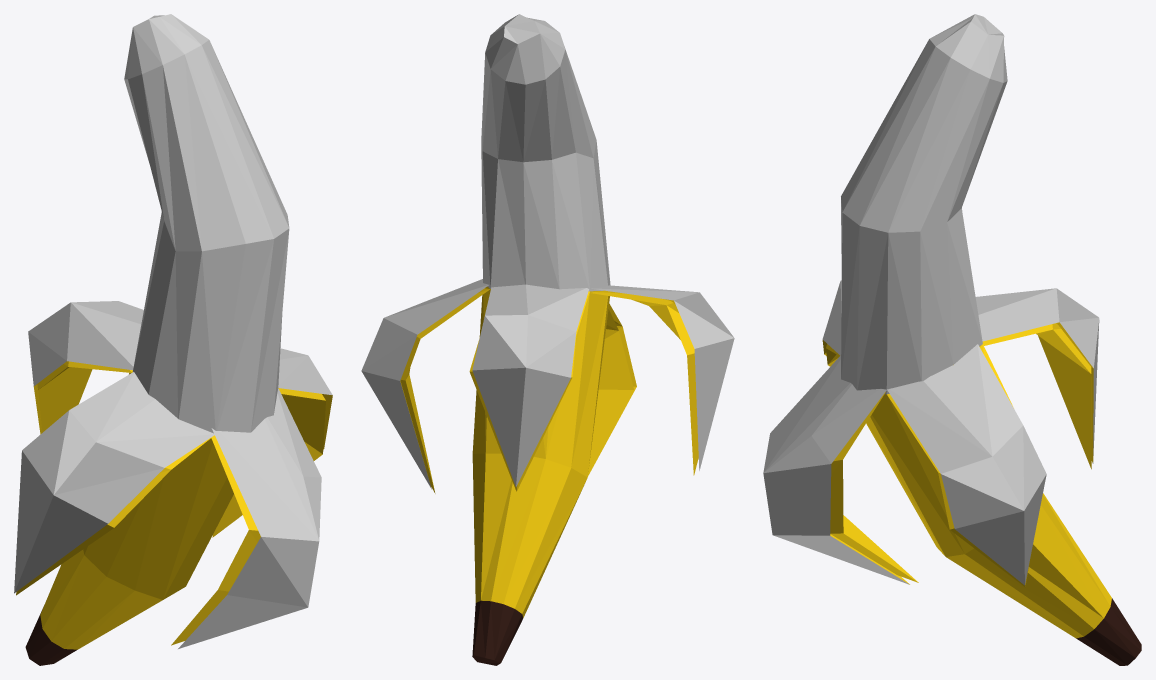
3 views of the same model, side by side, from view 1: azimuth 30°, elevation 25°; view 2: azimuth 150°, elevation 25°; view 3: azimuth 270°, elevation 25° (orthographic). The views are drawn at different scales.
Bounding box in the file's own units: 0.1073 × 0.2083 × 0.1078.
